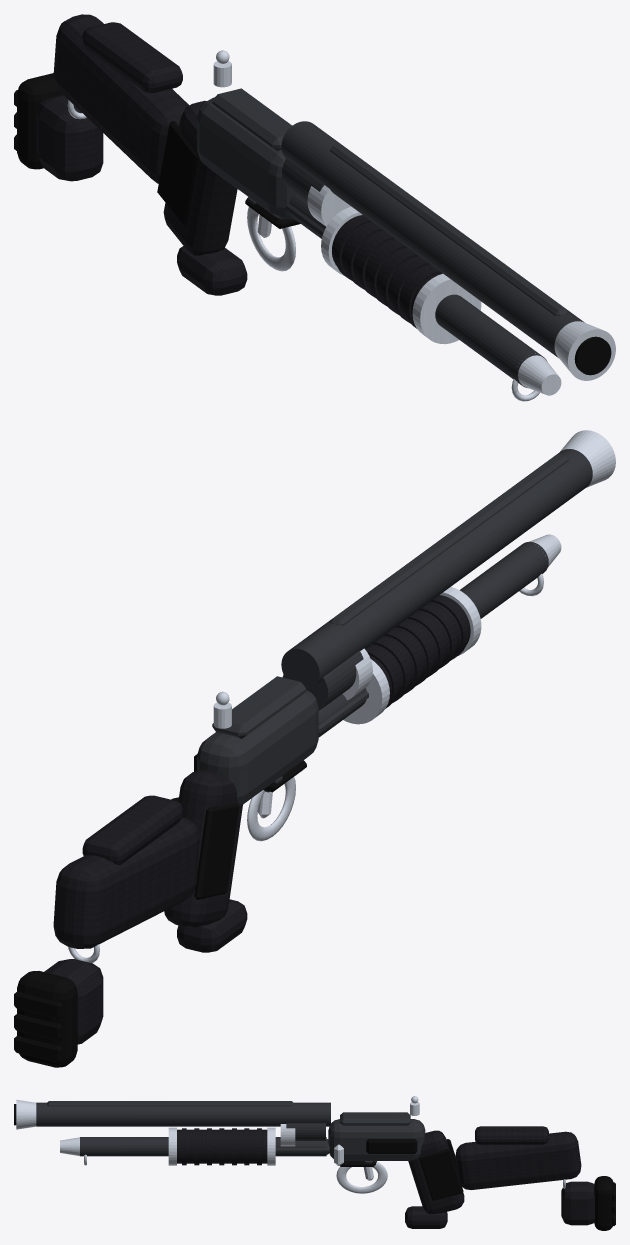
The model's file is wep_shotgun.glb.
3 renders of one model, top to bottom at view 1: azimuth 30°, elevation 25°; view 2: azimuth 150°, elevation 25°; view 3: azimuth 270°, elevation 25°, orthographic. The views are drawn at different scales.
Parts seen in each view (by area): view 1: wep_shotgun_barrel, wep_shotgun_stock, wep_shotgun_receiver, wep_shotgun_grip, wep_shotgun_stock_heel_plate, wep_shotgun_mag_tube, wep_shotgun_stock_comb, wep_shotgun_barrel_rib, wep_shotgun_fore_end, wep_shotgun_grip_panel_l, wep_shotgun_grip_heel, wep_shotgun_action_rib (+16 smaller); view 2: wep_shotgun_barrel, wep_shotgun_stock, wep_shotgun_receiver, wep_shotgun_grip, wep_shotgun_mag_tube, wep_shotgun_stock_comb, wep_shotgun_barrel_rib, wep_shotgun_recoil_pad, wep_shotgun_grip_panel_l, wep_shotgun_fore_end, wep_shotgun_action_rib, wep_shotgun_stock_heel_plate (+9 smaller); view 3: wep_shotgun_barrel, wep_shotgun_stock, wep_shotgun_receiver, wep_shotgun_mag_tube, wep_shotgun_fore_end, wep_shotgun_grip, wep_shotgun_grip_panel_r, wep_shotgun_barrel_rib, wep_shotgun_stock_heel_plate, wep_shotgun_stock_comb, wep_shotgun_recoil_pad, wep_shotgun_action_rib (+13 smaller).
Boxes of the visible parts, box(x1,y1,x2,y2) form: wep_shotgun_barrel: box(281, 121, 584, 357); wep_shotgun_stock: box(53, 14, 189, 183); wep_shotgun_receiver: box(197, 97, 294, 219); wep_shotgun_grip: box(163, 100, 237, 255); wep_shotgun_stock_heel_plate: box(37, 94, 103, 181); wep_shotgun_mag_tube: box(289, 193, 547, 387); wep_shotgun_stock_comb: box(82, 22, 182, 92); wep_shotgun_barrel_rib: box(330, 144, 568, 315); wep_shotgun_fore_end: box(332, 215, 442, 318); wep_shotgun_grip_panel_l: box(157, 121, 198, 226); wep_shotgun_grip_heel: box(177, 246, 247, 295); wep_shotgun_action_rib: box(212, 88, 292, 150); wep_shotgun_barrel: box(281, 449, 592, 689); wep_shotgun_stock: box(53, 817, 199, 948); wep_shotgun_receiver: box(197, 690, 318, 804); wep_shotgun_grip: box(164, 770, 242, 927); wep_shotgun_mag_tube: box(318, 541, 548, 737); wep_shotgun_stock_comb: box(82, 795, 182, 864); wep_shotgun_barrel_rib: box(330, 453, 568, 625); wep_shotgun_recoil_pad: box(17, 971, 77, 1067); wep_shotgun_grip_panel_l: box(194, 803, 239, 899); wep_shotgun_fore_end: box(368, 595, 470, 699); wep_shotgun_action_rib: box(212, 676, 306, 738); wep_shotgun_stock_heel_plate: box(44, 959, 103, 1044); wep_shotgun_barrel: box(36, 1102, 330, 1126); wep_shotgun_stock: box(455, 1131, 581, 1189); wep_shotgun_receiver: box(328, 1119, 425, 1160); wep_shotgun_mag_tube: box(80, 1137, 326, 1156); wep_shotgun_fore_end: box(177, 1129, 267, 1163); wep_shotgun_grip: box(408, 1130, 464, 1213); wep_shotgun_grip_panel_r: box(419, 1148, 463, 1200); wep_shotgun_barrel_rib: box(47, 1101, 293, 1106); wep_shotgun_stock_heel_plate: box(561, 1181, 594, 1225); wep_shotgun_stock_comb: box(475, 1126, 548, 1144); wep_shotgun_recoil_pad: box(594, 1176, 613, 1230); wep_shotgun_action_rib: box(340, 1112, 410, 1125).
Bounding box in the file's own units: 0.0472 × 0.1745 × 0.7315.
Materials: 5 (5 with a texture image).
